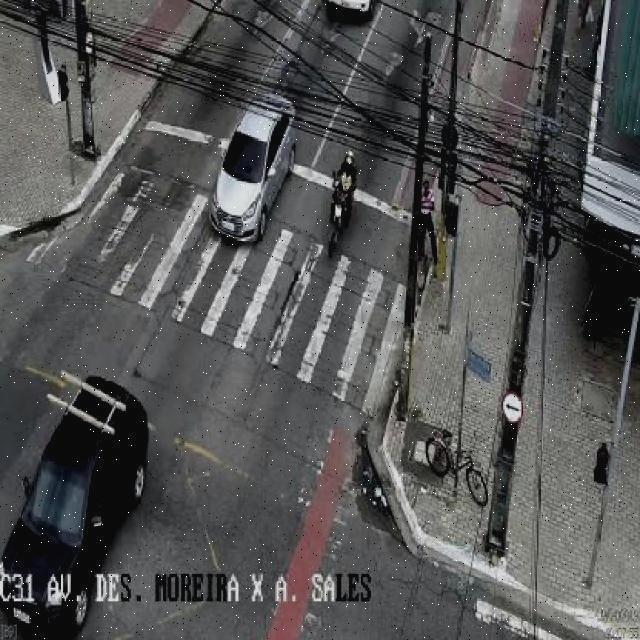Car: (0, 374, 151, 637), (210, 90, 298, 246)
Cycle: (424, 428, 490, 508), (321, 176, 359, 256)
